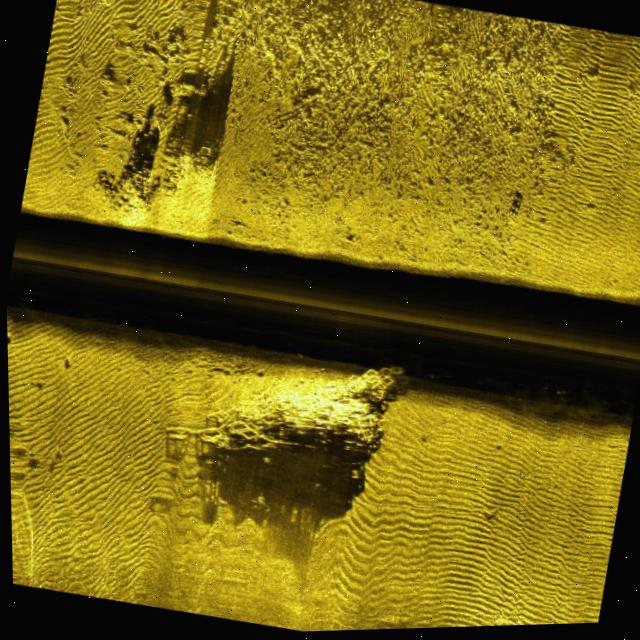artificial reef: (140, 321, 409, 498)
